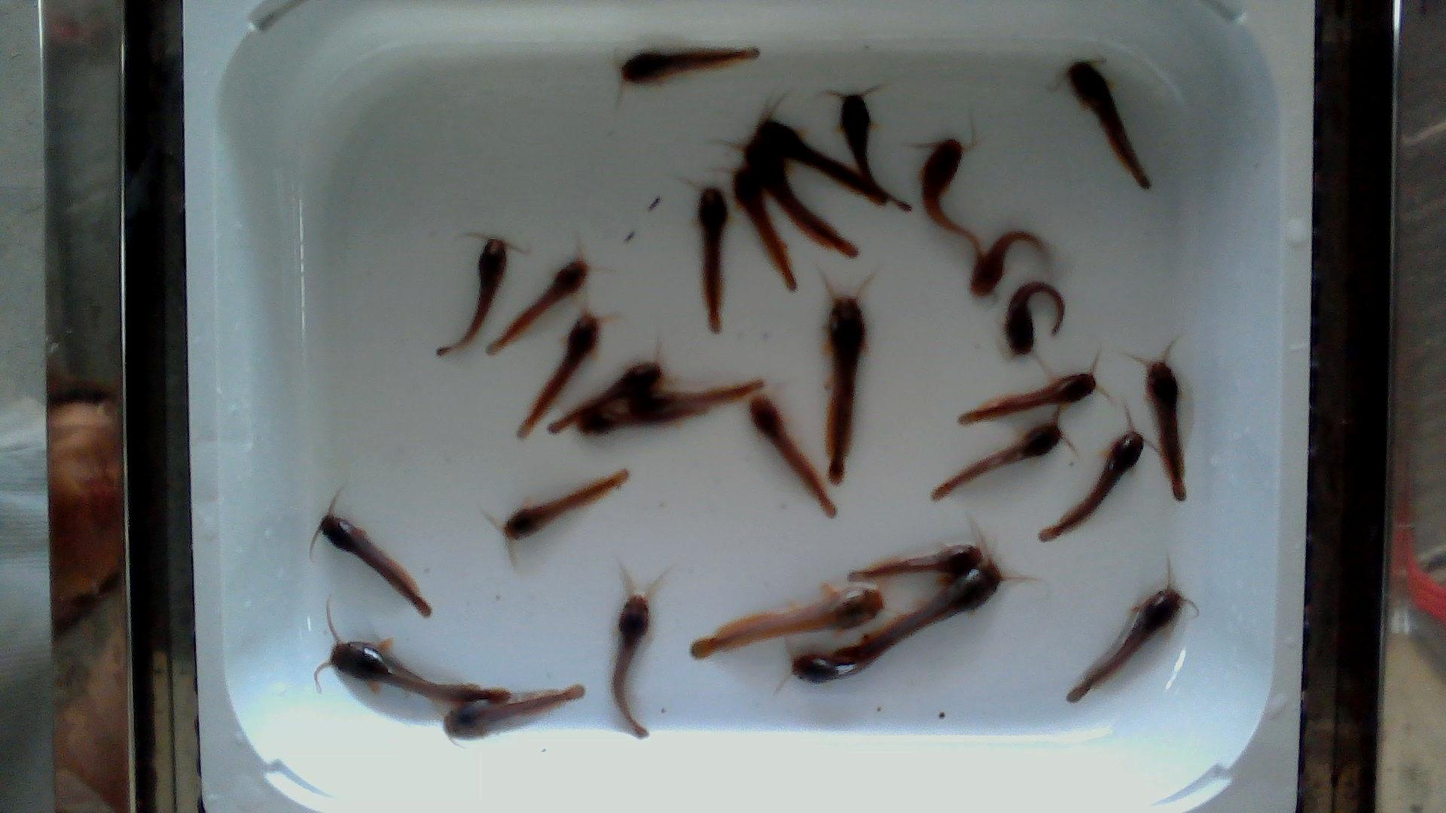lele: (823, 560, 1003, 661), (691, 586, 883, 658), (1068, 588, 1181, 702), (749, 144, 862, 257), (756, 119, 886, 208), (1039, 429, 1143, 540), (320, 513, 430, 614), (329, 641, 510, 702), (1067, 62, 1149, 188), (750, 396, 835, 516), (932, 420, 1061, 499), (518, 314, 599, 437), (488, 260, 587, 352), (733, 158, 796, 291), (504, 470, 629, 537), (438, 239, 507, 354), (549, 361, 661, 430), (825, 297, 865, 483), (443, 685, 582, 737), (959, 373, 1096, 424), (921, 139, 975, 248), (611, 594, 650, 738), (840, 95, 892, 203), (849, 542, 981, 581), (1147, 362, 1184, 500), (620, 48, 759, 83), (790, 641, 893, 686), (972, 231, 1042, 296), (697, 188, 728, 333), (1004, 283, 1064, 356), (574, 404, 713, 434), (630, 382, 768, 411)
